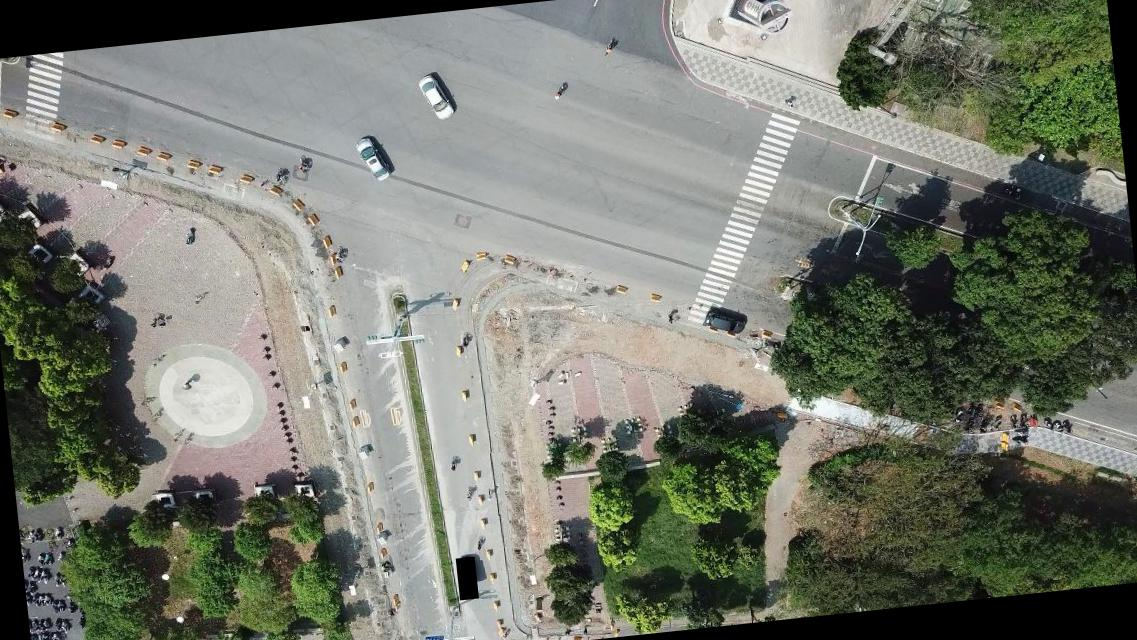vehicle: (354, 133, 393, 182), (417, 73, 456, 122), (702, 304, 748, 338)
